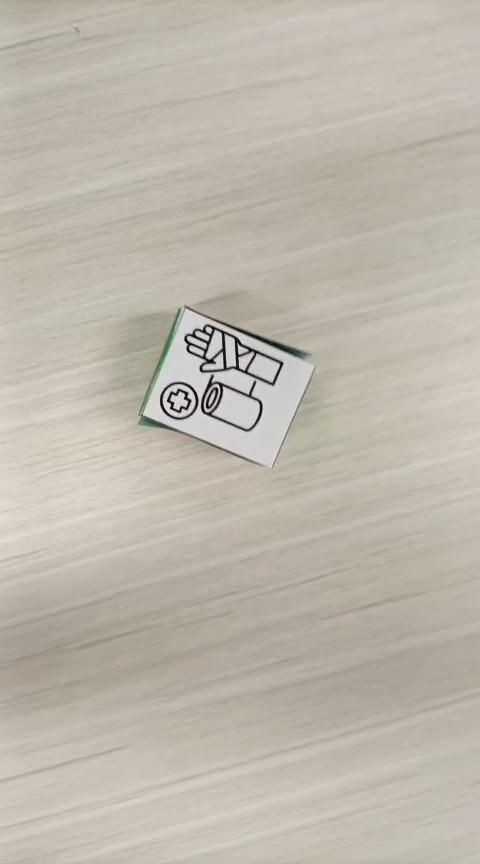Bandages: (136, 303, 315, 469)
